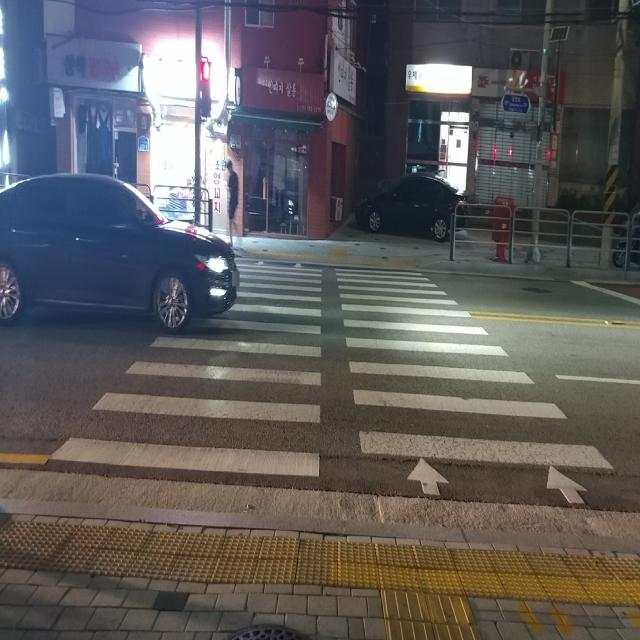빨간불: (200, 61, 212, 114)
횡단보도: (49, 259, 616, 506)
